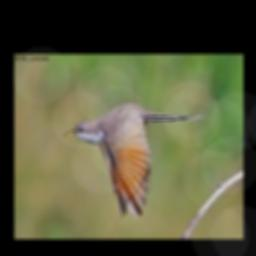Cuckoo: (64, 103, 206, 219)
